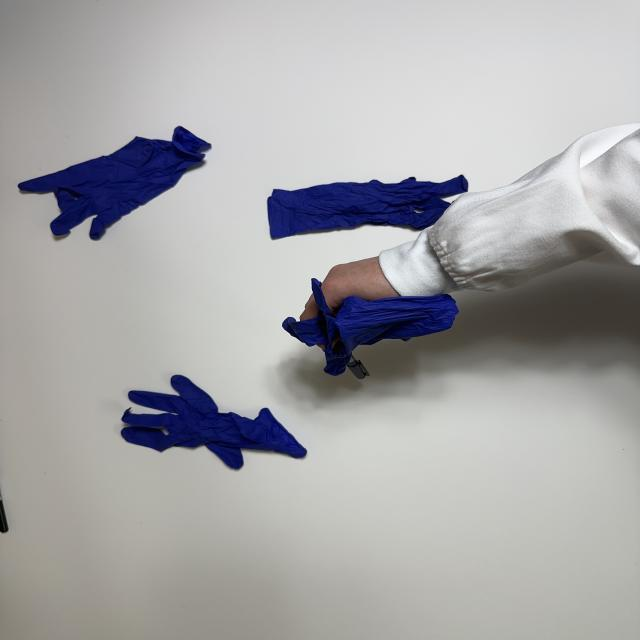glove_not_fitted: (284, 253, 464, 378)
